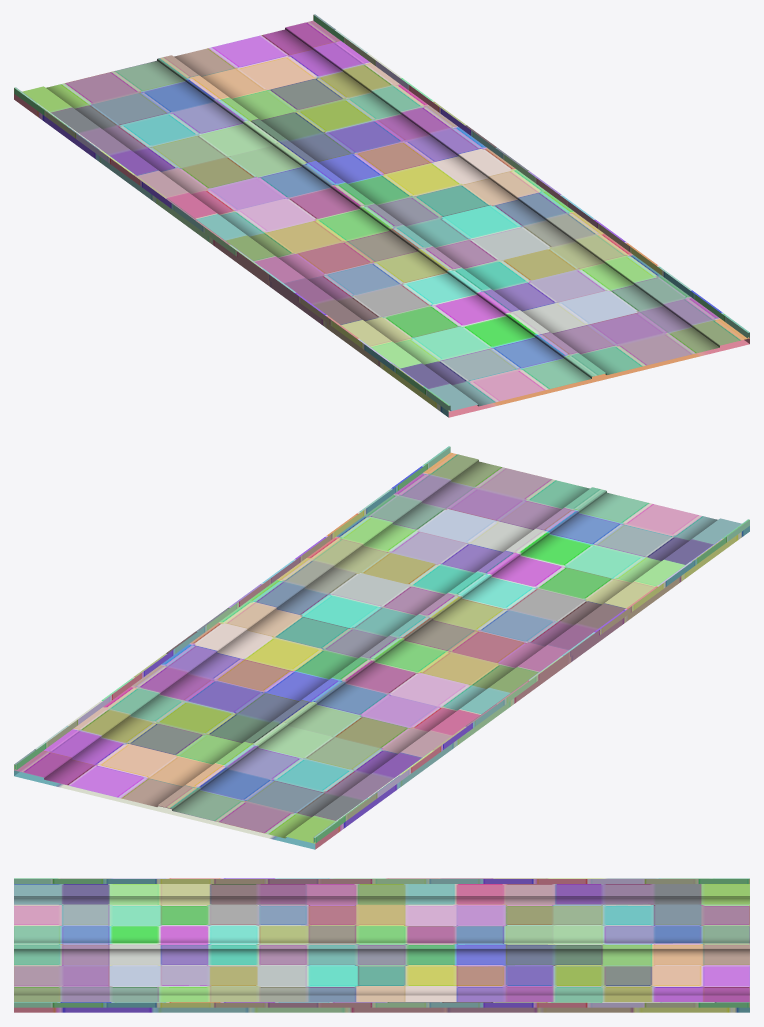
Rendered from road_01.fbx.
3 views of the same model, one above another, from view 1: azimuth 30°, elevation 25°; view 2: azimuth 150°, elevation 25°; view 3: azimuth 270°, elevation 25° (orthographic). The views are drawn at different scales.
Parts seen in each view (by area): view 1: road_01; view 2: road_01; view 3: road_01.
Boxes of the visible parts, x1,y1,x2,y2 form: road_01: (14,14,749,417); road_01: (14,446,749,849); road_01: (14,878,749,1012).
Size of the model in its own units: 980 by 36.75 by 2450.
